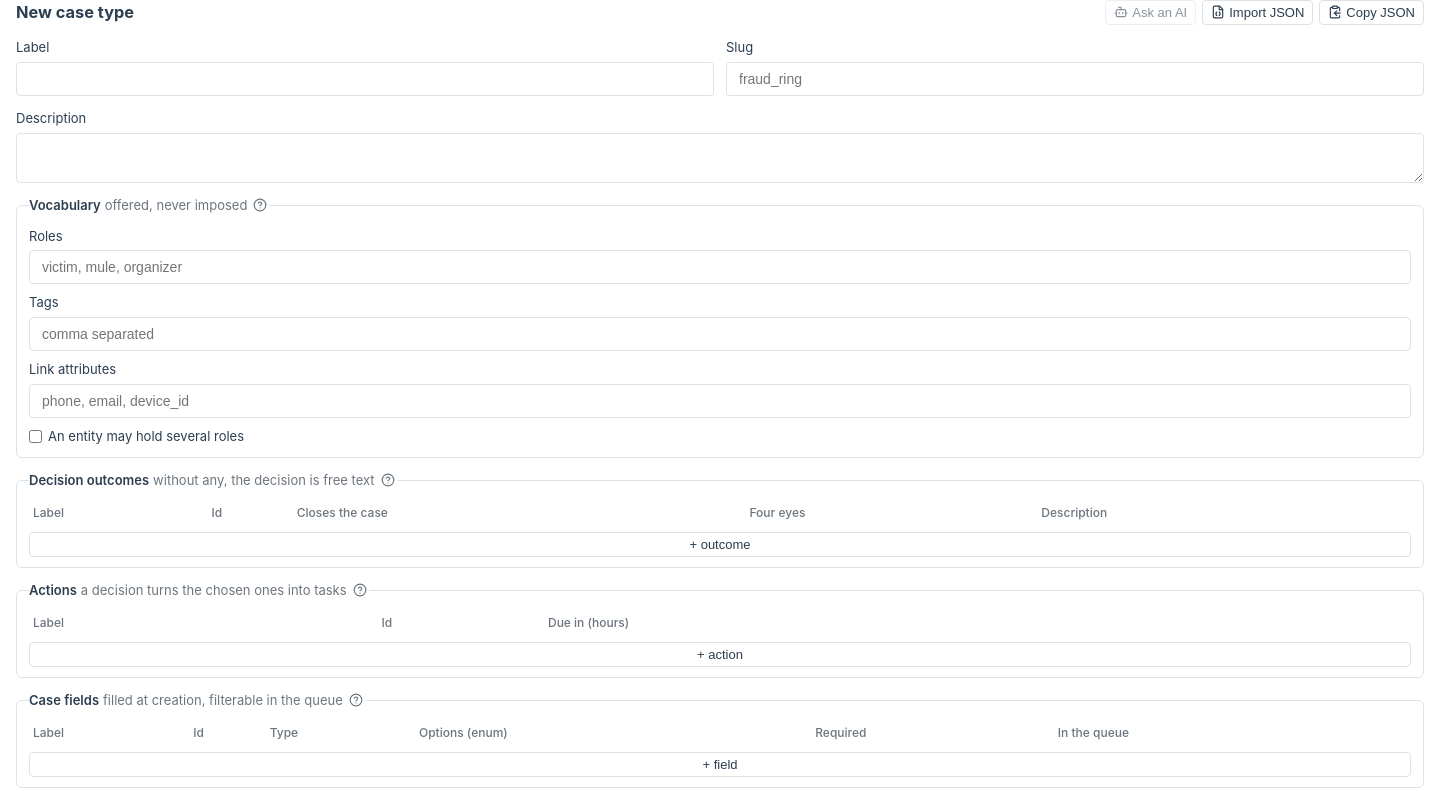
CaseTypeEditor (06 §1) › refuses a catalog where nothing closes the case
Type "X" into the field with test id "ct-label" at (365,79), box [16, 62, 714, 96]
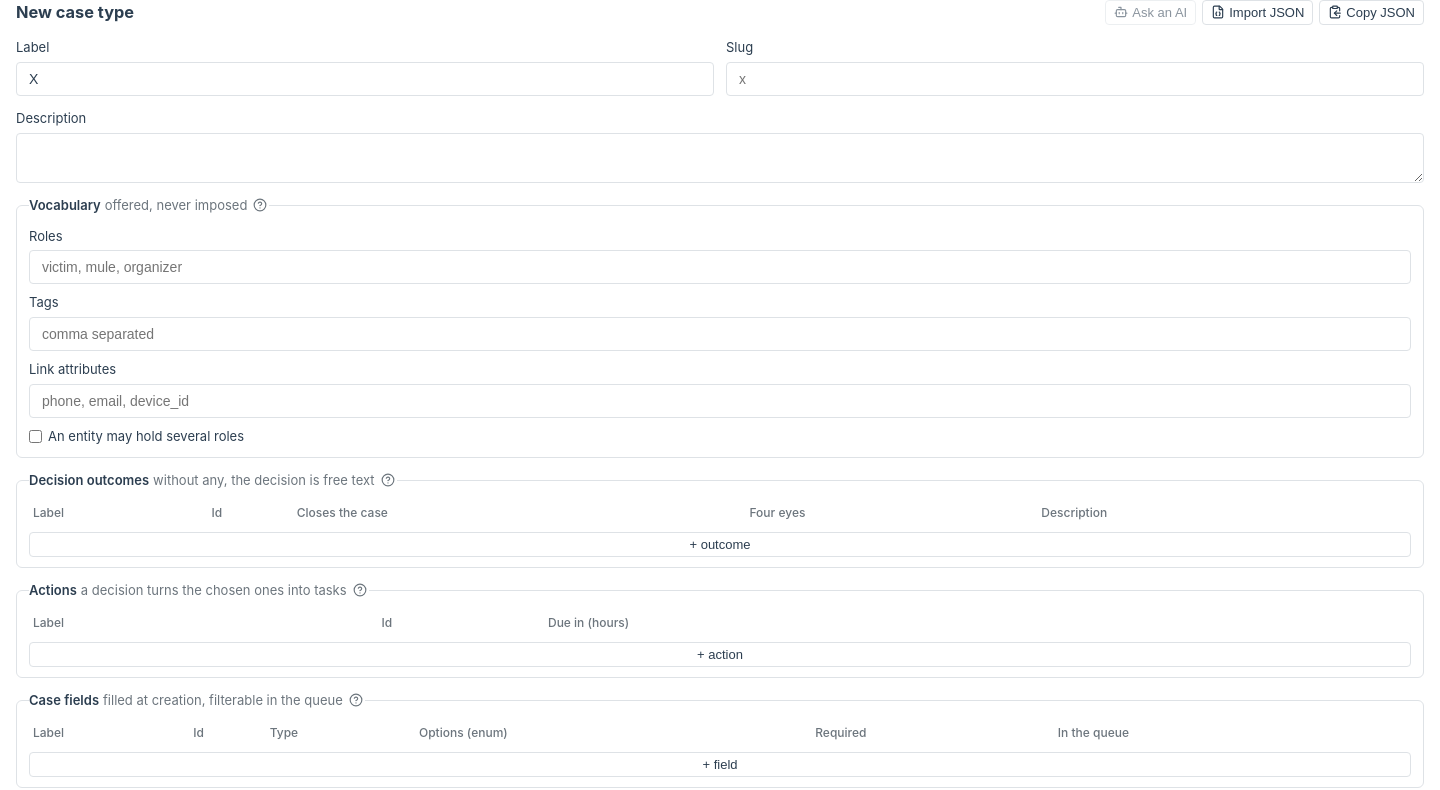
Click the button with test id "ct-add-outcome" at (720,544), box [29, 532, 1411, 557]
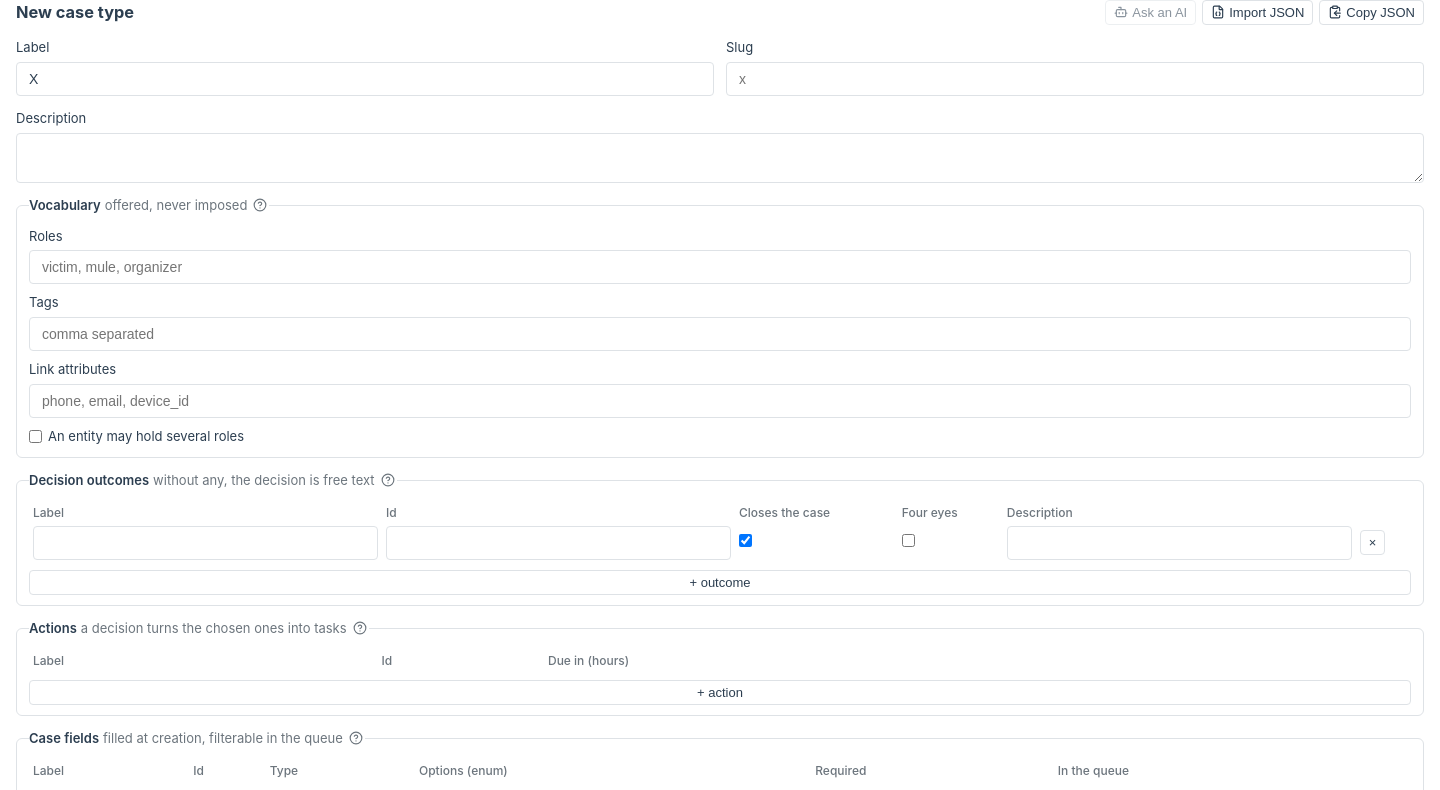
Type "Monitor" into the field with test id "ct-outcome-label-0" at (206,543), box [33, 526, 378, 560]
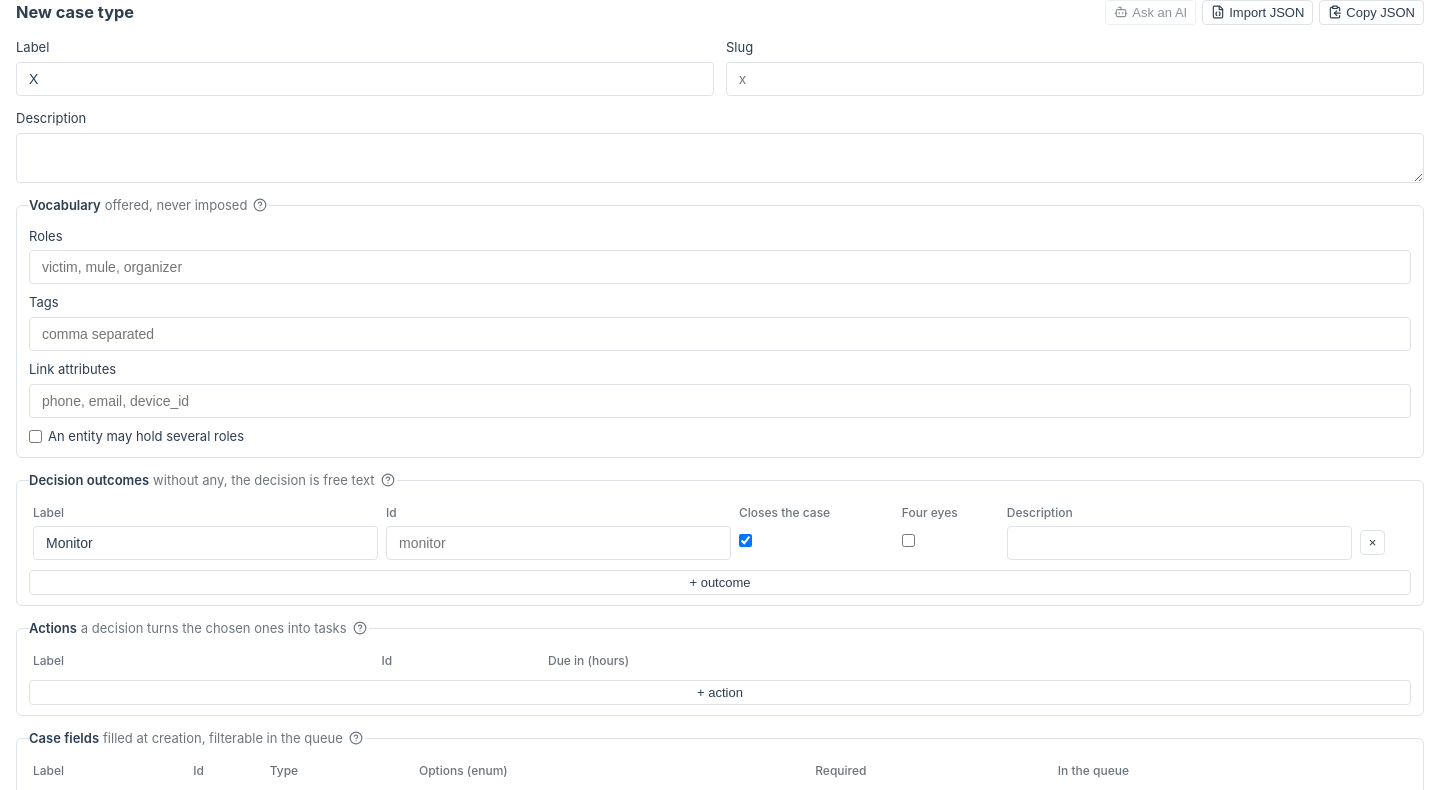
Click the checkbox with test id "ct-outcome-closes-0" at (746,541), box [739, 534, 752, 547]
(page scrolled)
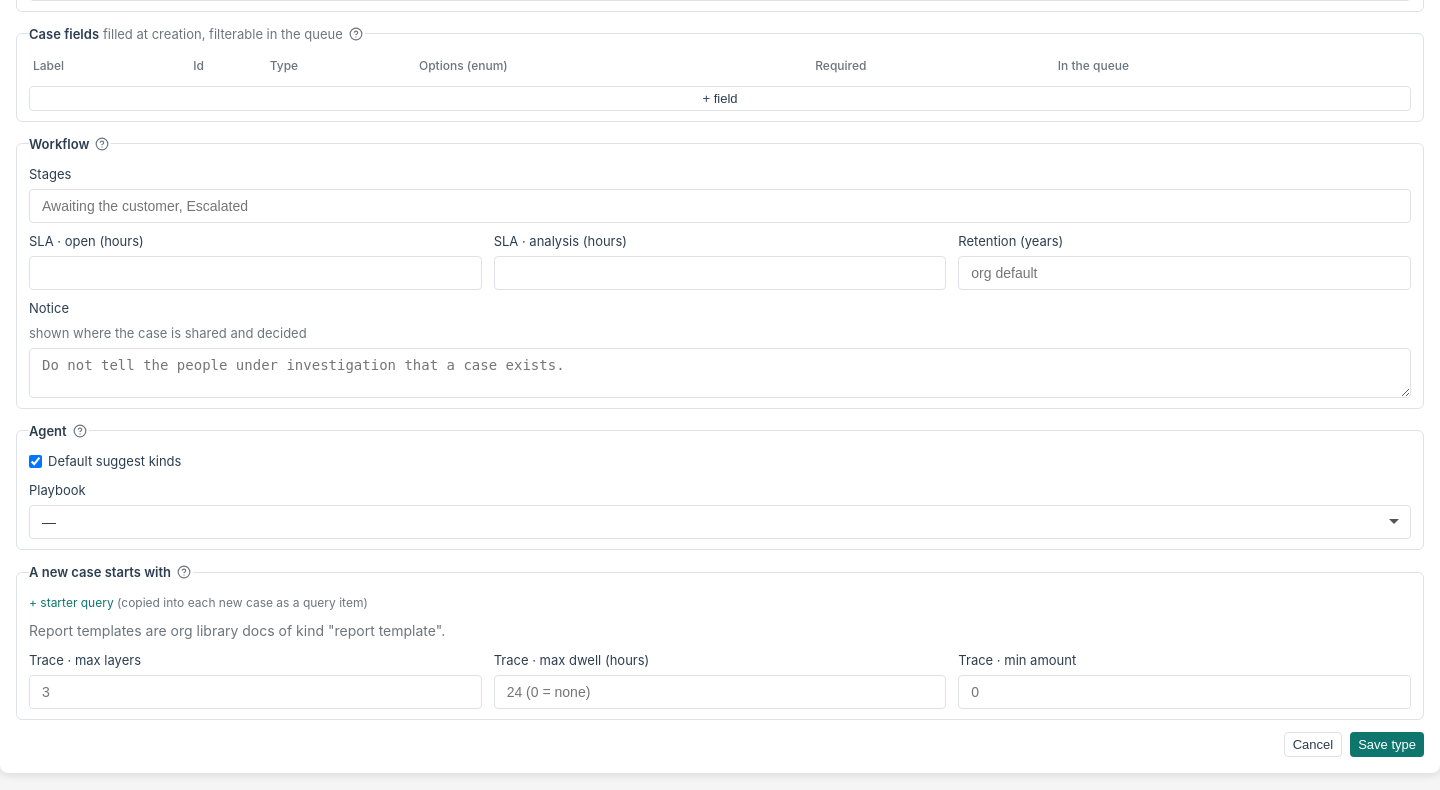
Click the button with test id "ct-save" at (1387,745), box [1350, 732, 1424, 757]
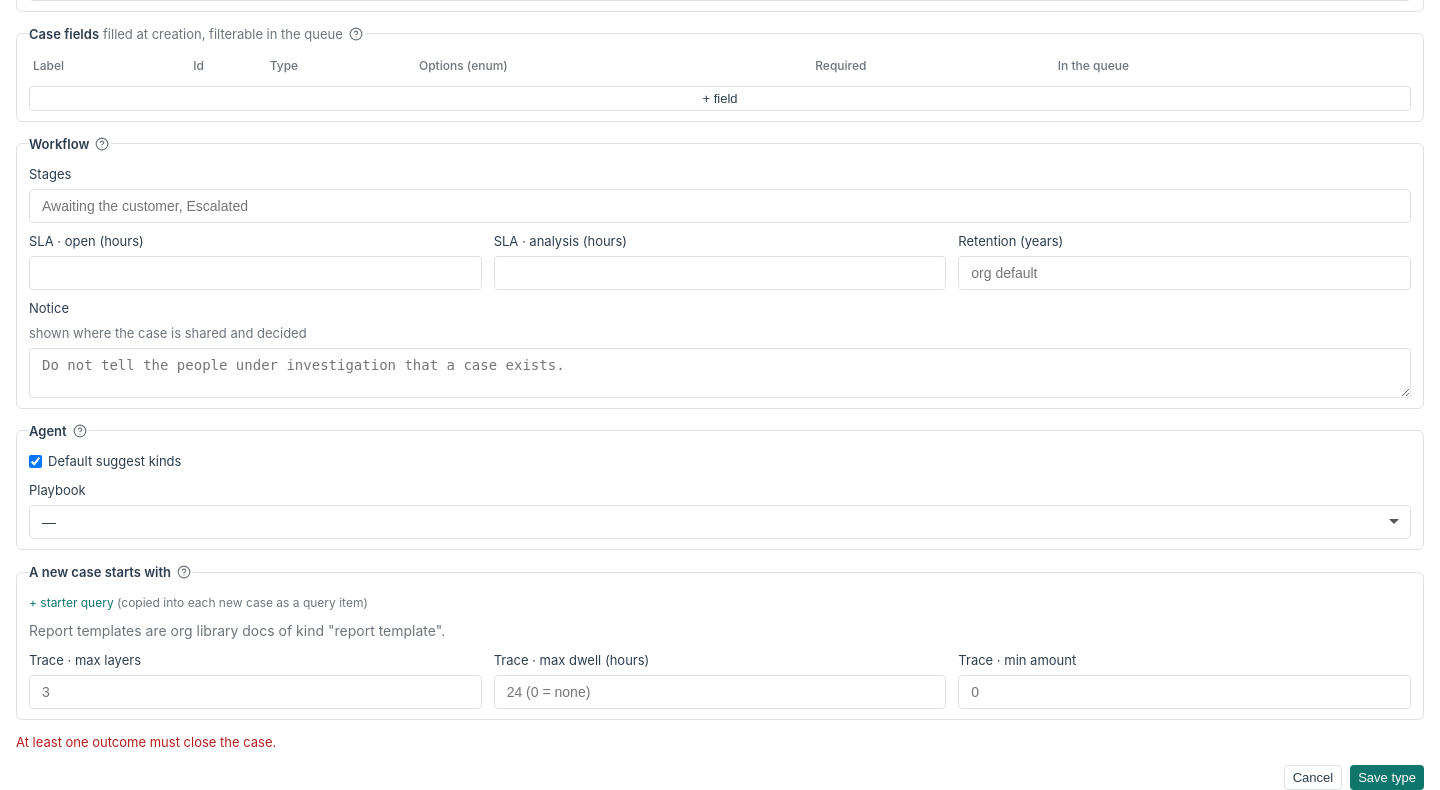
Check: the text with test id "ct-error" shows "close the case", box [16, 734, 276, 750]
